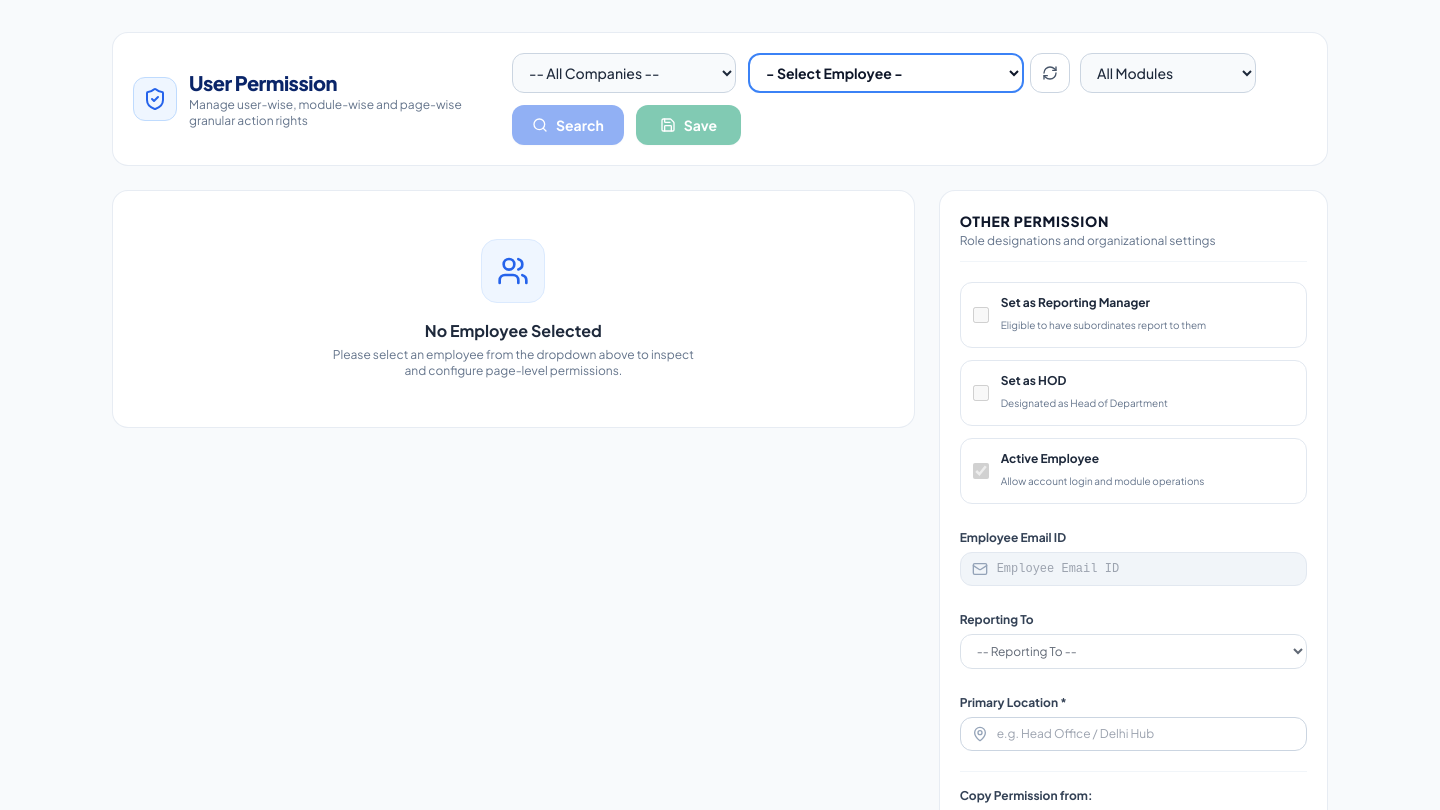
Test: Frontend UserPermissionsPage Component › renders top controls, table columns and handles employee selection
Select "CG0002 – Rohit Verma (ACTIVE)" in the dropdown named "Select Employee" at (886, 73), box [748,53,1024,93]
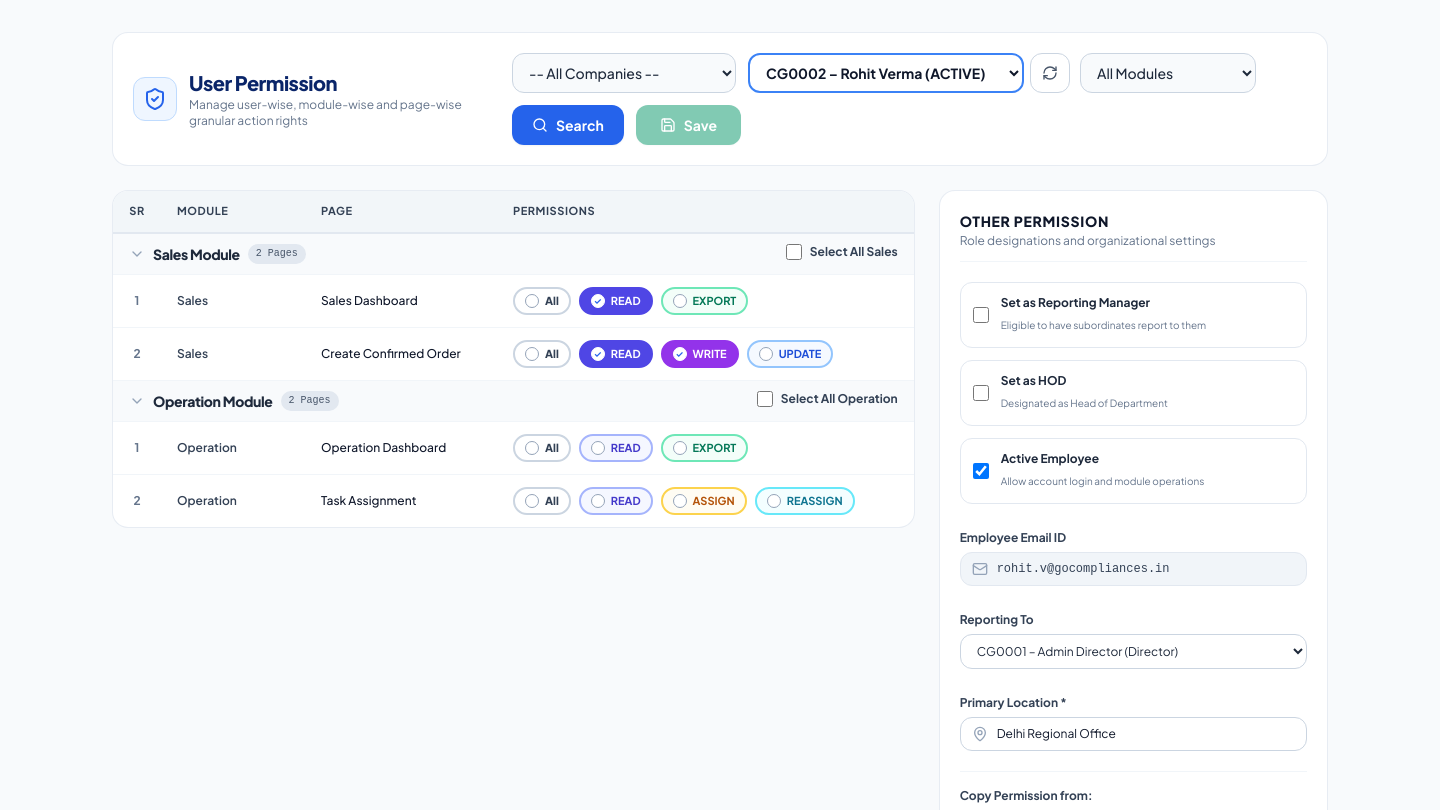
Now the text "Sales Module" is shown, box [153,244,240,264]
Now the text "Sales Dashboard" is shown, box [305,274,497,327]
Now the text "Create Confirmed Order" is shown, box [305,327,497,380]
